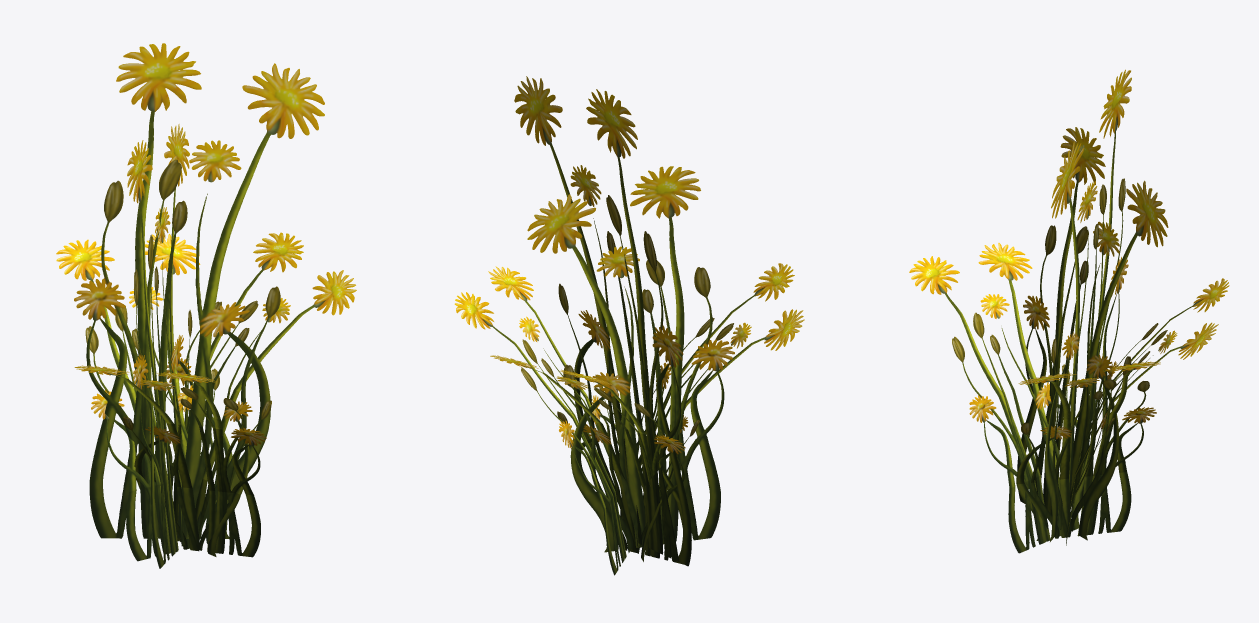
Rendered from PlantFlowers.obj.
3 views of the same model, side by side, from view 1: azimuth 30°, elevation 25°; view 2: azimuth 150°, elevation 25°; view 3: azimuth 270°, elevation 25° (orthographic). The views are drawn at different scales.
Visible parts, largest first — view 1: Default_Layer; view 2: Default_Layer; view 3: Default_Layer.
Boxes of the visible parts, x1,y1,x2,y2 form: Default_Layer: [56, 43, 356, 568]; Default_Layer: [454, 76, 804, 575]; Default_Layer: [909, 69, 1229, 553].
Size of the model in its own units: 1.76 by 2.55 by 1.68.
